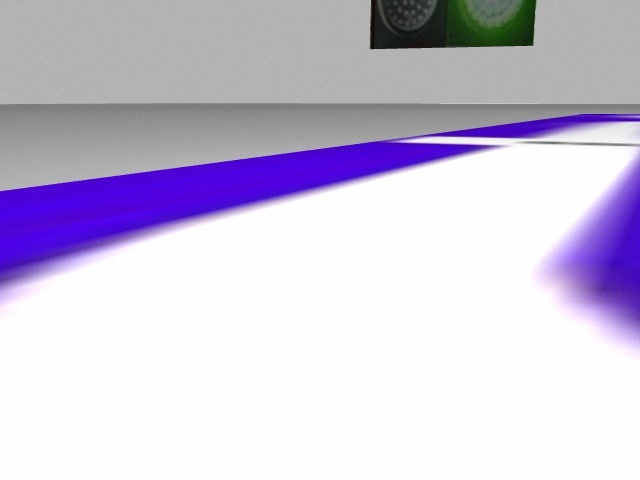green: (448, 2, 533, 46)
